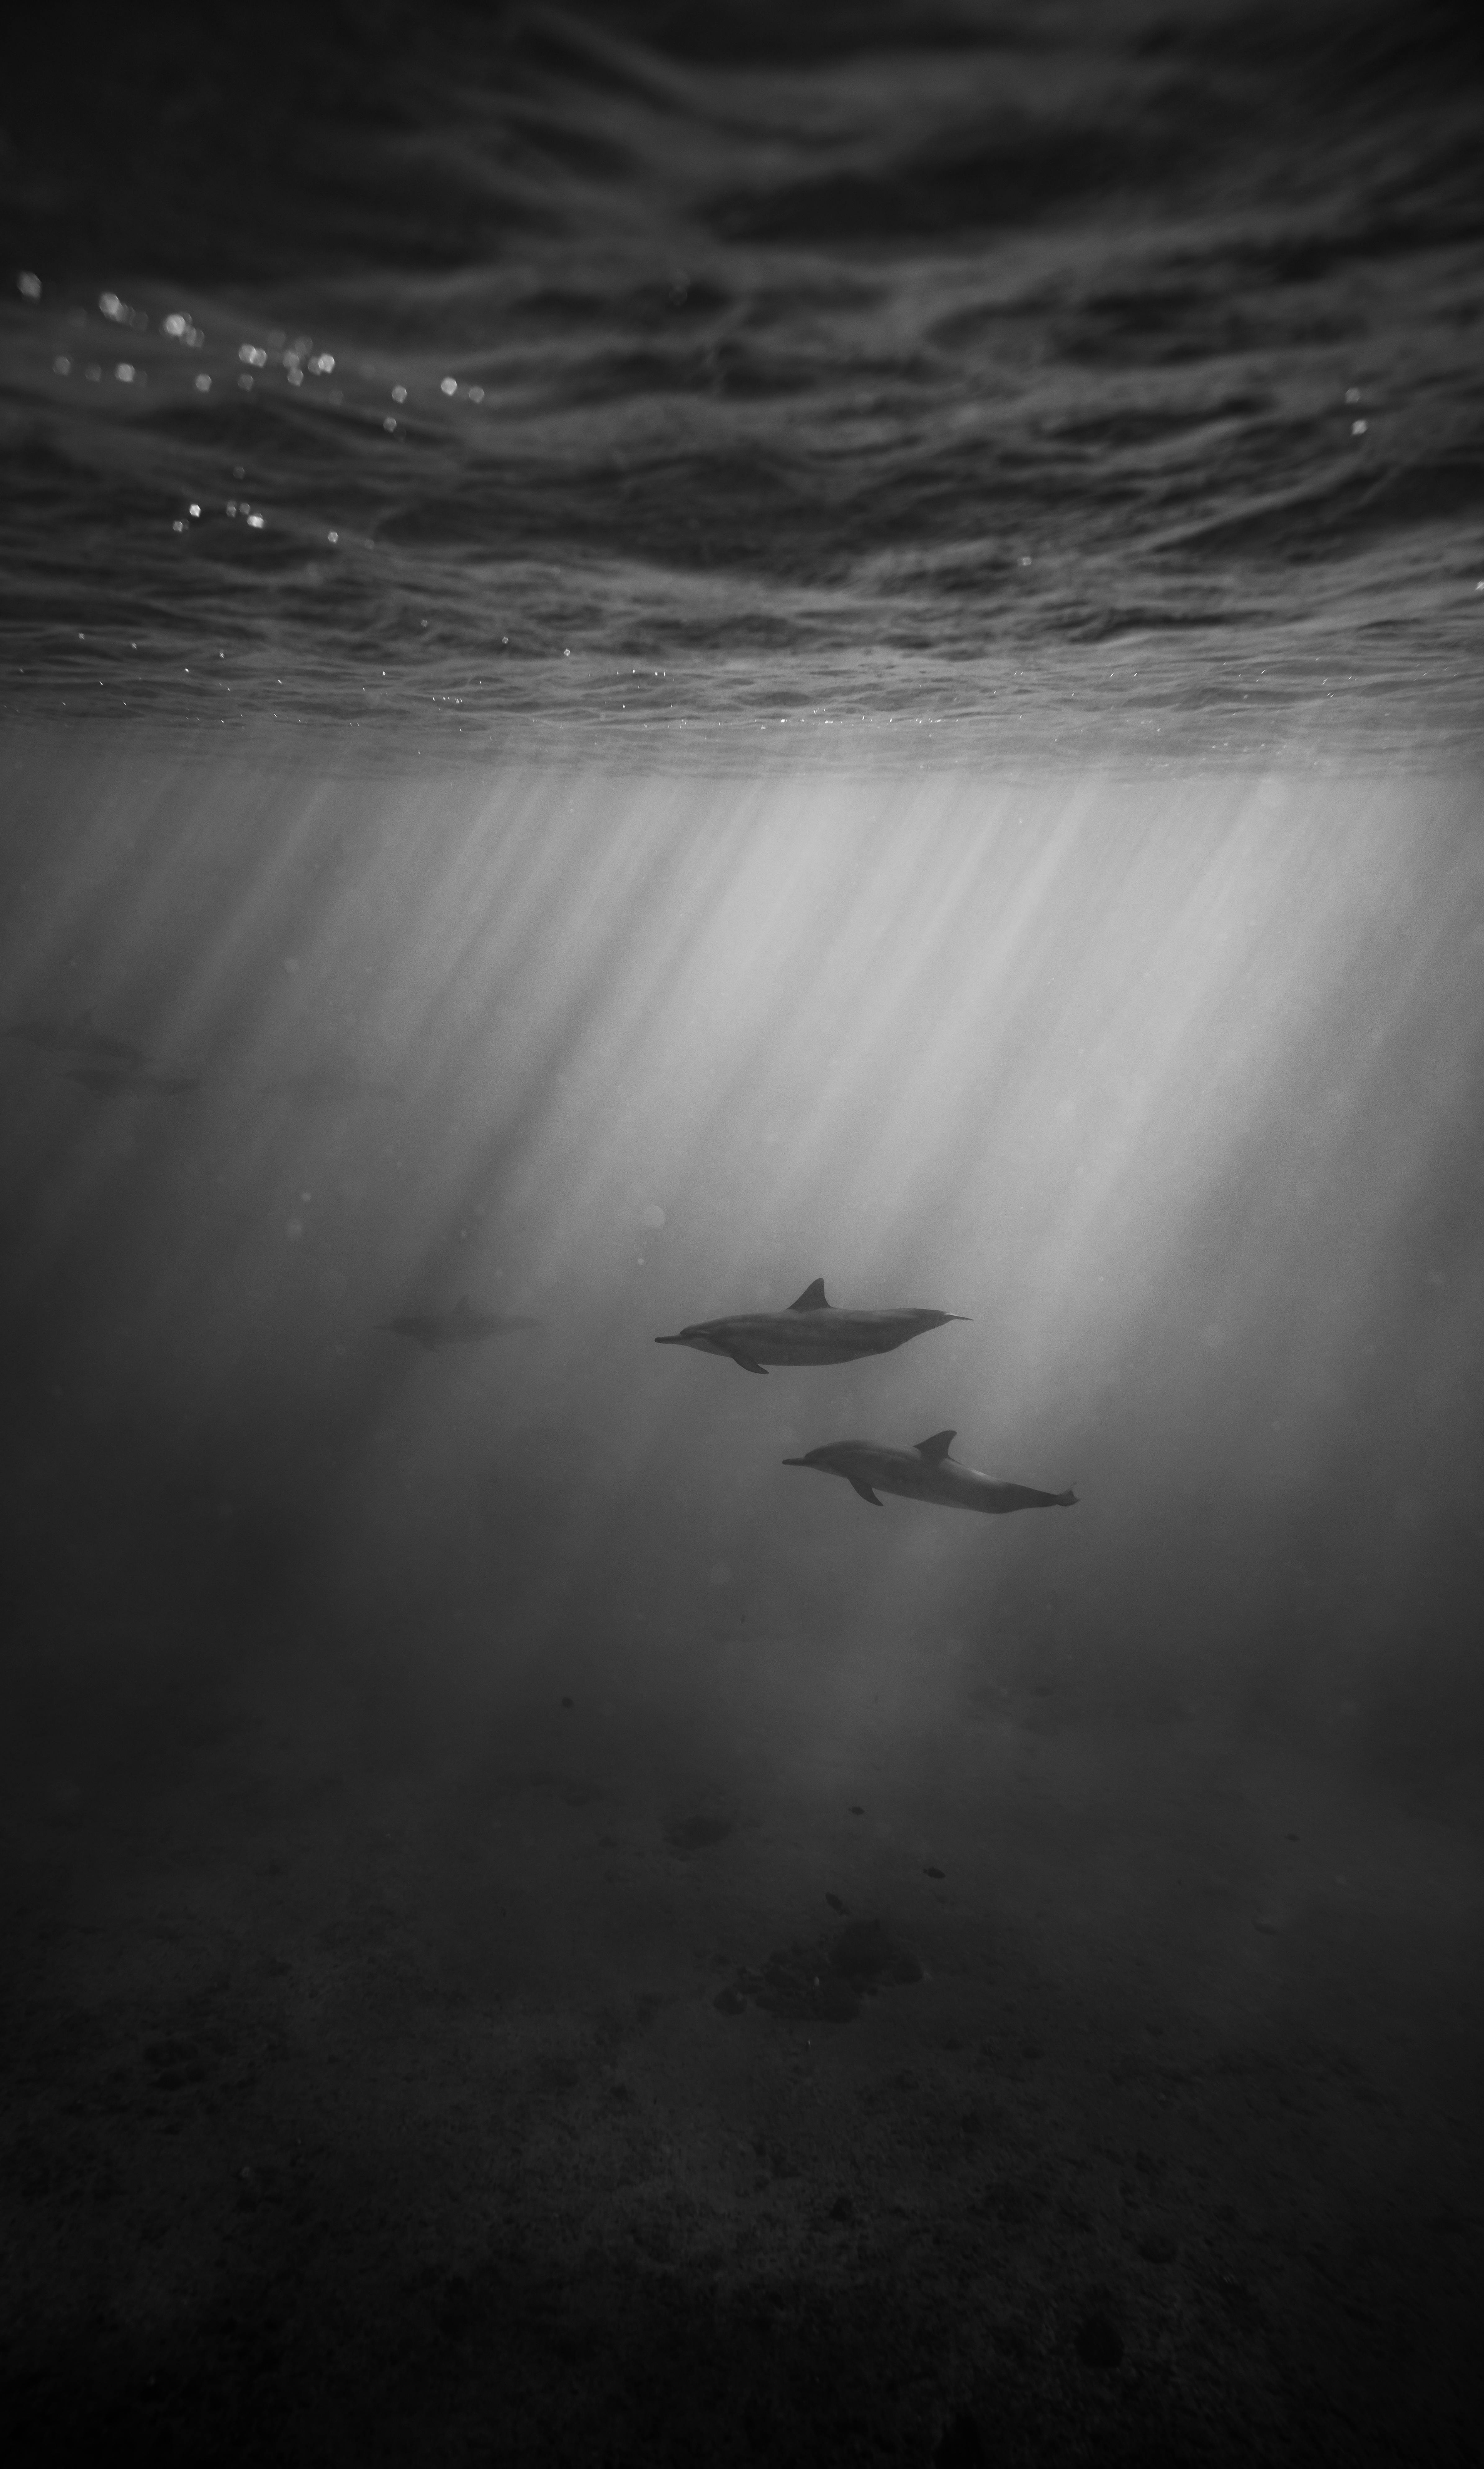dolphin: (649, 1275, 976, 1383), (784, 1425, 1086, 1522)
